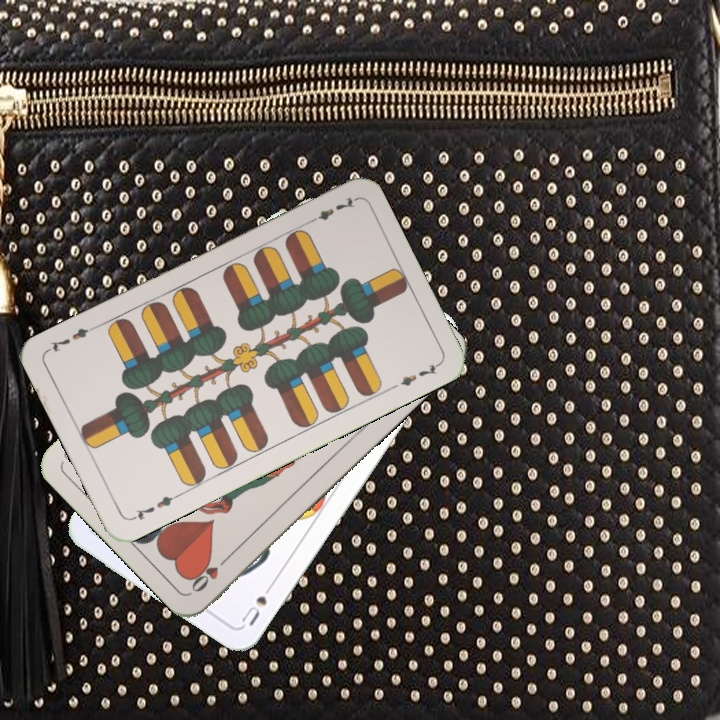E7: (303, 193, 358, 228), (127, 490, 182, 523)
HO: (187, 550, 234, 595)
SU: (237, 576, 278, 629)
